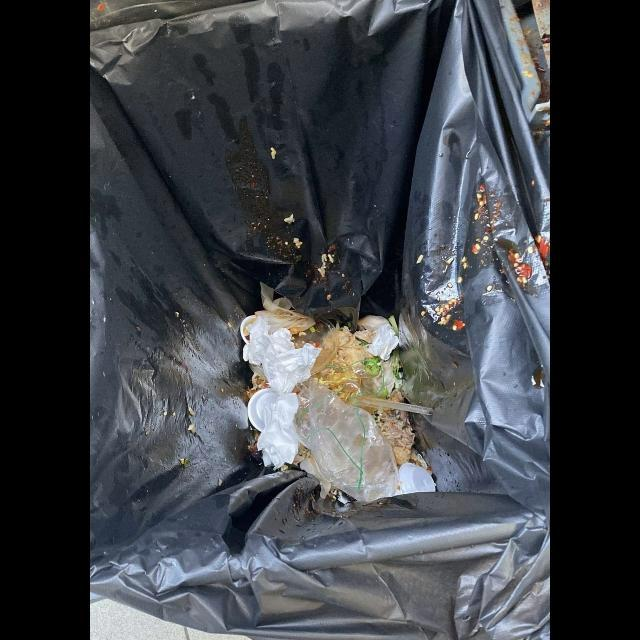paper: (240, 315, 322, 394), (258, 393, 302, 470), (355, 315, 404, 362)
plastic_bag: (293, 378, 402, 505)
